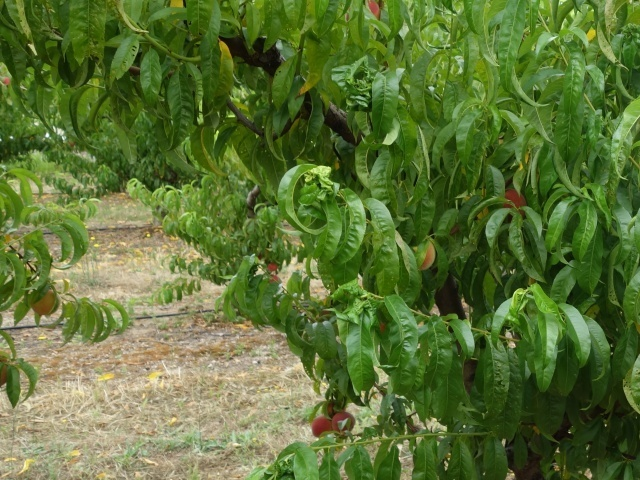peach: (496, 180, 530, 215), (412, 235, 441, 272), (30, 288, 63, 320), (310, 414, 341, 443), (330, 411, 356, 438)
